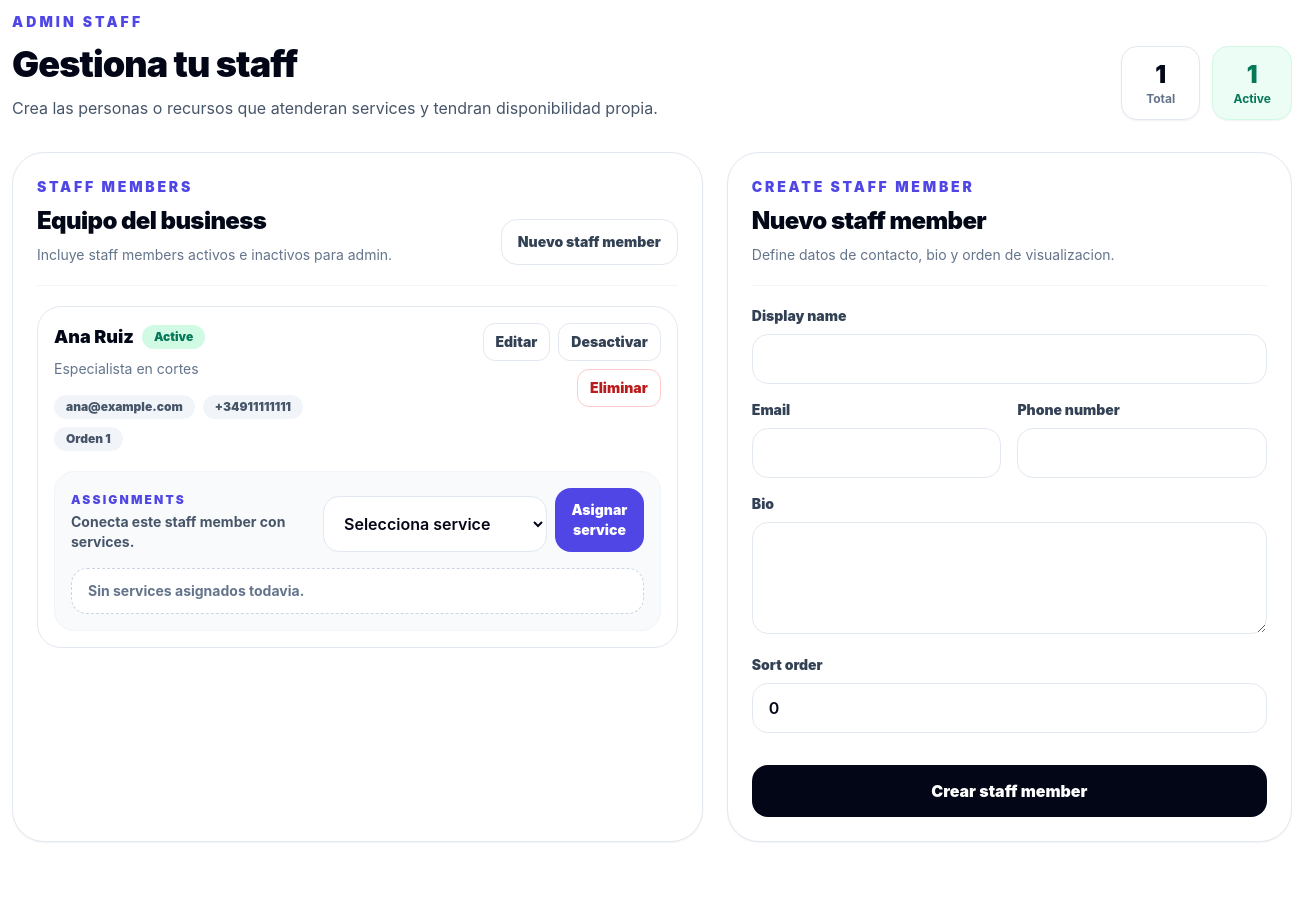
staff members page › shows delete conflicts
The image size is (1292, 912).
Expected: the heading "Ana Ruiz" is shown, [54,323,134,351]
Click the button "Eliminar". click: (619, 388)
box: [577,369,661,407]
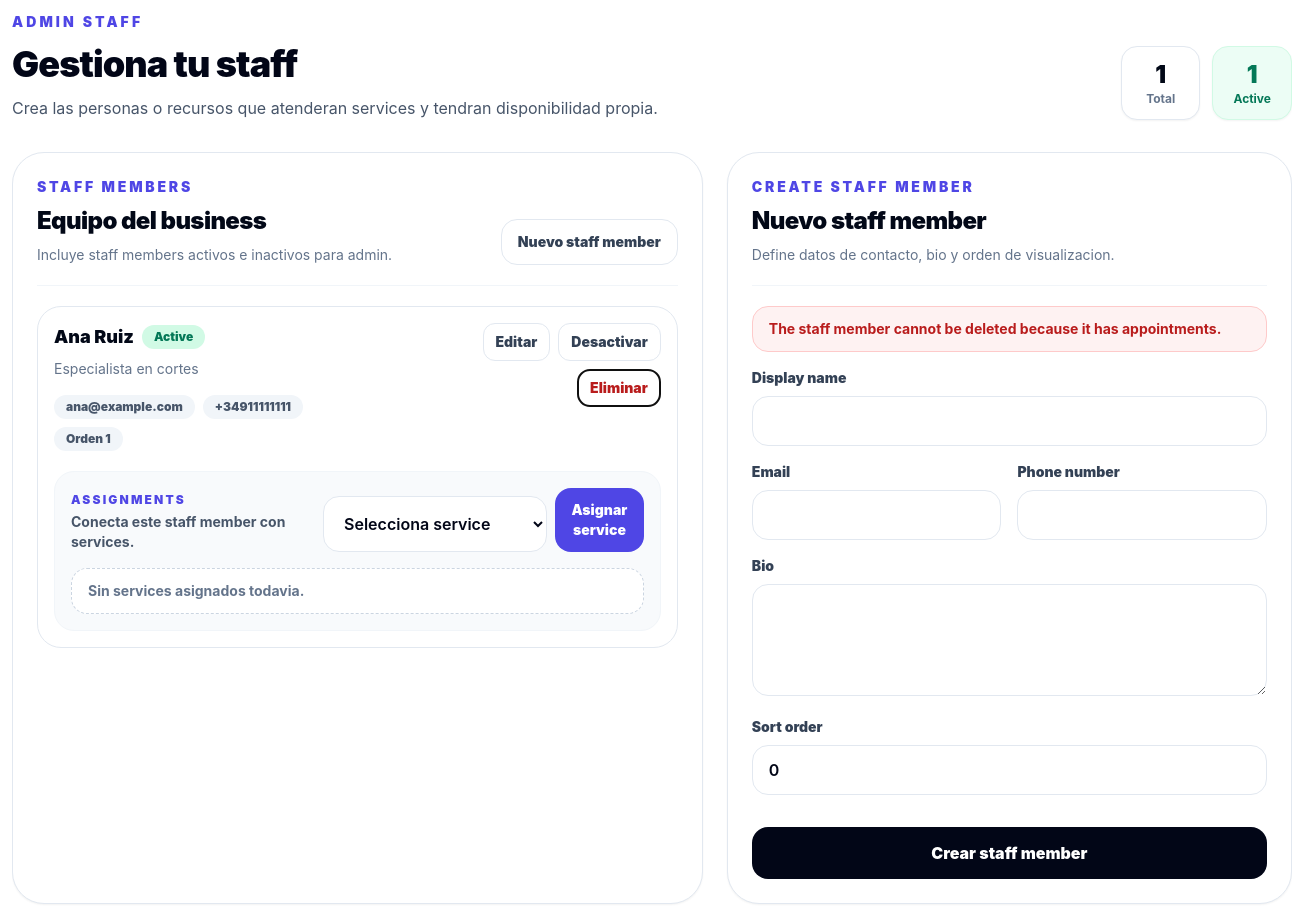
Expected: the message reads "The staff member cannot be deleted because it has appointments.", [769,320,1221,337]
